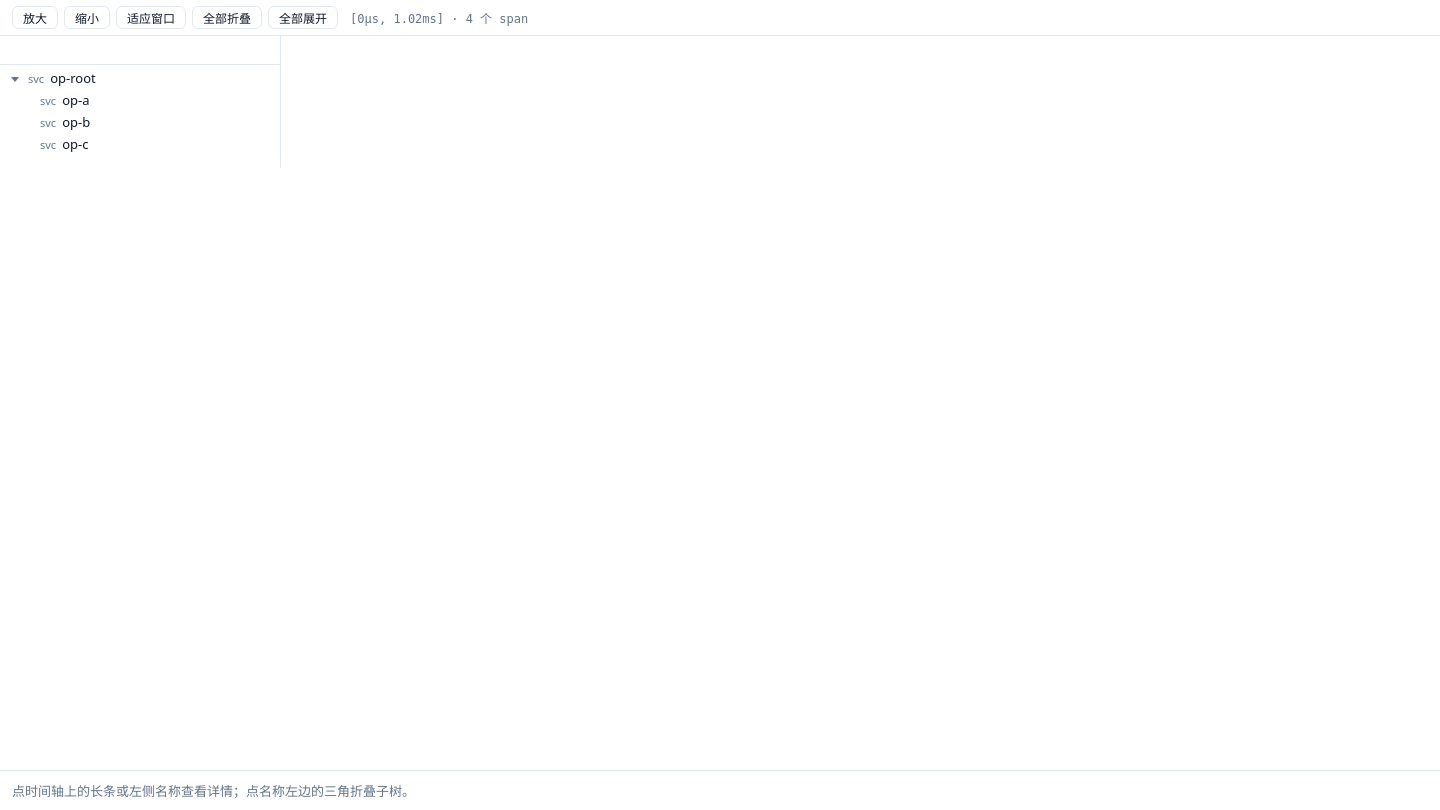
Test: TraceToolbar › 全部折叠 / 展开
The width and height of the screenshot is (1440, 810).
Expected: the number of elements titled "svc · op-" is 4, [8,69,96,87]; [40,91,90,109]; [40,113,90,131]; [40,135,88,153]
Step 1. Click the button "全部折叠" → (227, 18), box [192,6,262,29]
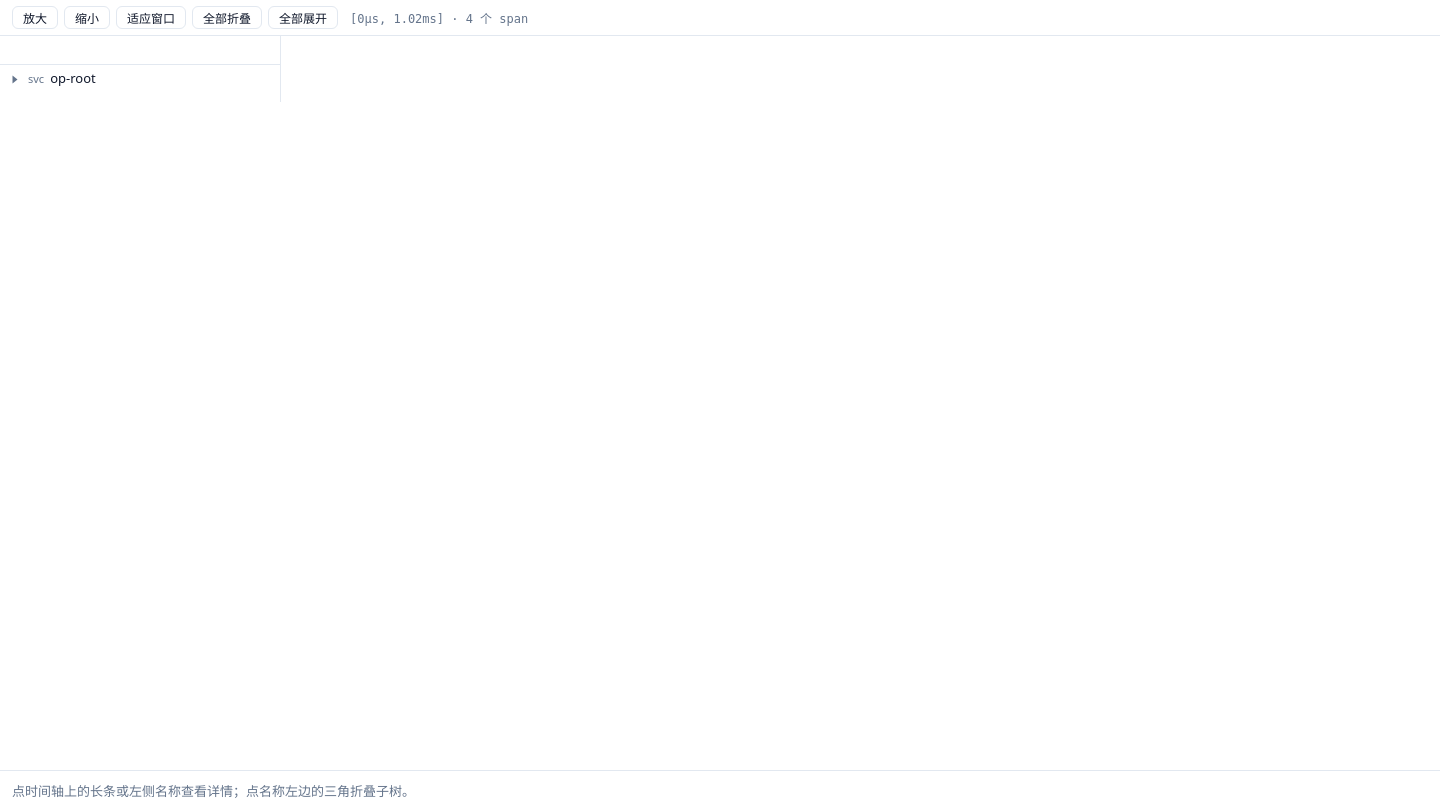
Result: the number of elements titled "svc · op-" is 1 at [8,69,96,87]
Step 2. Click the button "全部展开" → (303, 18), box [268,6,338,29]
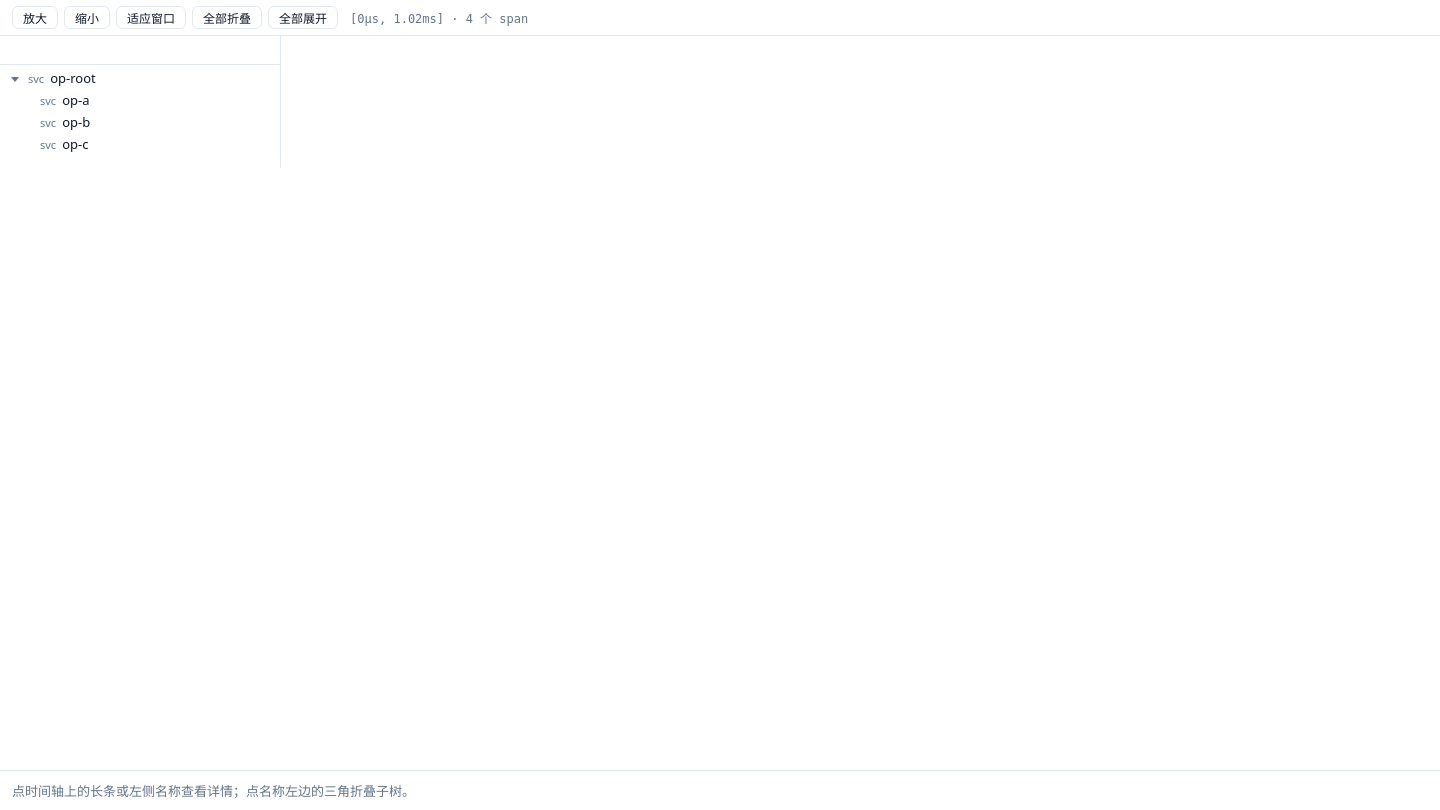
Result: the number of elements titled "svc · op-" is 4 at [8,69,96,87]; [40,91,90,109]; [40,113,90,131]; [40,135,88,153]
